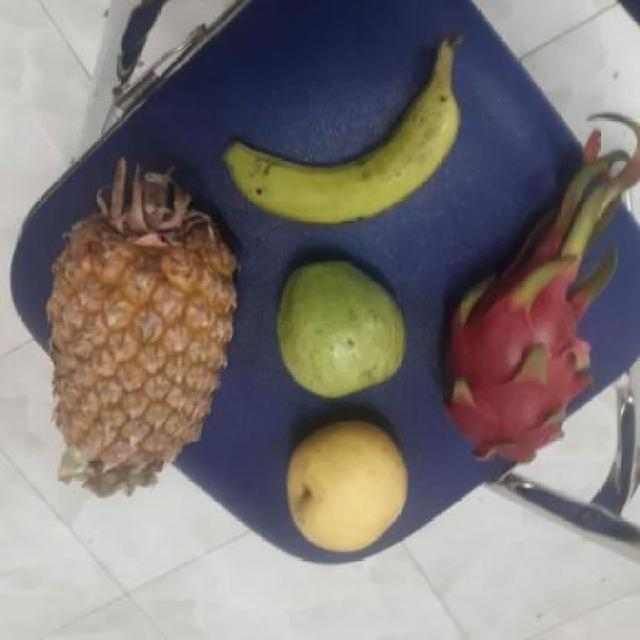banana: (235, 66, 471, 226)
dragon fruit: (436, 270, 596, 465)
guava: (276, 259, 412, 395)
pear: (280, 418, 414, 550)
pineapple: (47, 174, 235, 488)
